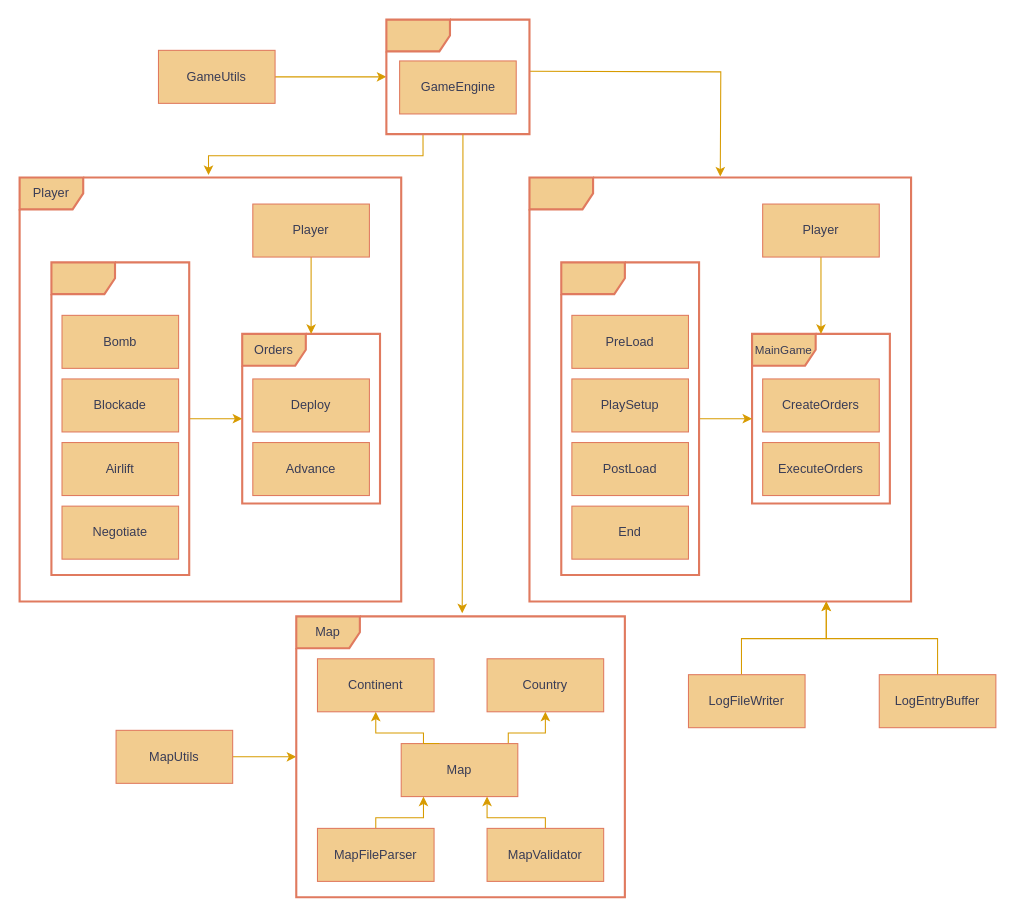
Some shapes in this 1014 by 916 pixel diagram are drawn without their labels. Each missing label, with the box of its shape:
Cards: (50, 261, 190, 576)
Controller: (385, 18, 530, 135)
Gameplay: (528, 176, 912, 602)
Phases: (560, 261, 700, 576)
